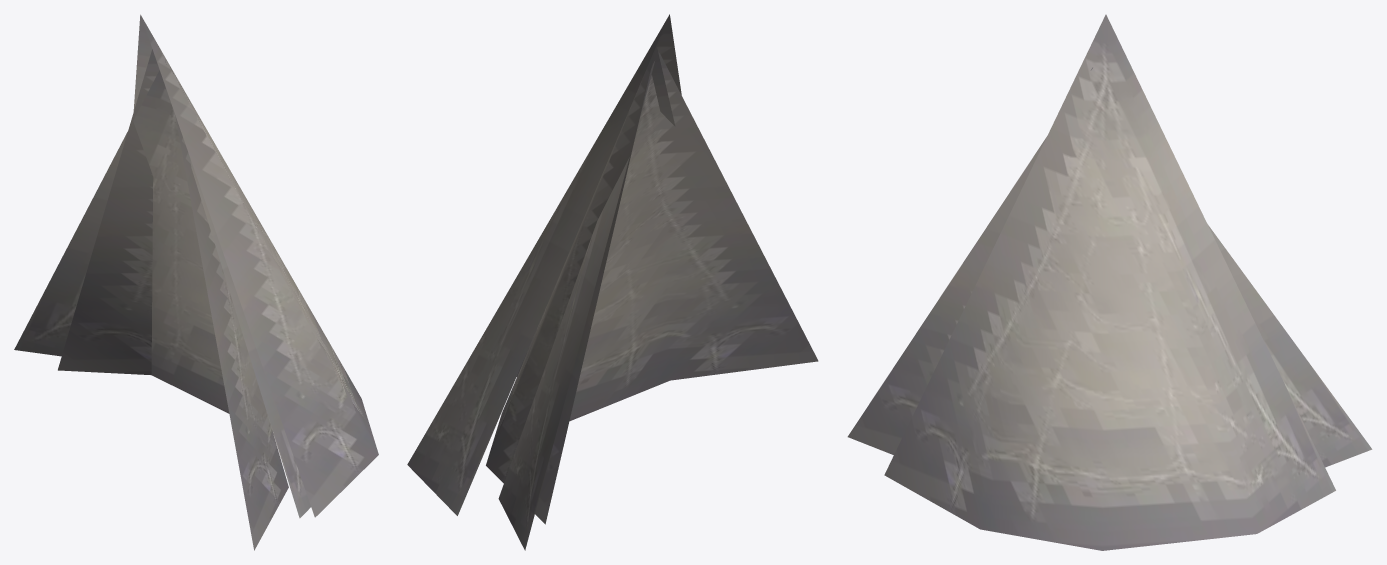
The picture shows the model from 3 angles, left to right: view 1: azimuth 30°, elevation 25°; view 2: azimuth 150°, elevation 25°; view 3: azimuth 270°, elevation 25°; orthographic projection.
Size of the model in its own units: 1.58 by 2.78 by 3.07.
Materials: 1 (1 with a texture image).
